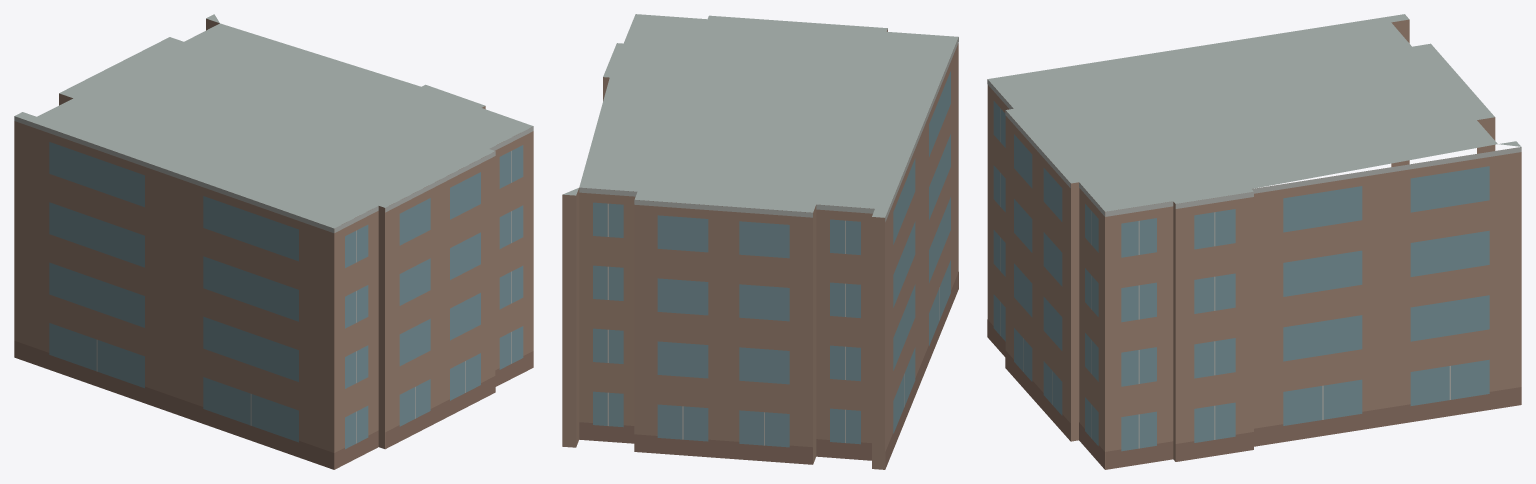
File: survey-upis-32867730.glb
3 renders of one model, left to right at view 1: azimuth 30°, elevation 25°; view 2: azimuth 150°, elevation 25°; view 3: azimuth 270°, elevation 25°, orthographic. The views are drawn at different scales.
Visible parts, largest first — view 1: survey-upis-32867730.tmp; view 2: survey-upis-32867730.tmp; view 3: survey-upis-32867730.tmp.
Boxes of the visible parts, x1,y1,x2,y2 form: survey-upis-32867730.tmp: (14,14,533,469); survey-upis-32867730.tmp: (562,14,958,469); survey-upis-32867730.tmp: (987,14,1521,469).
Size of the model in its own units: 20.06 by 12.2 by 22.89.
